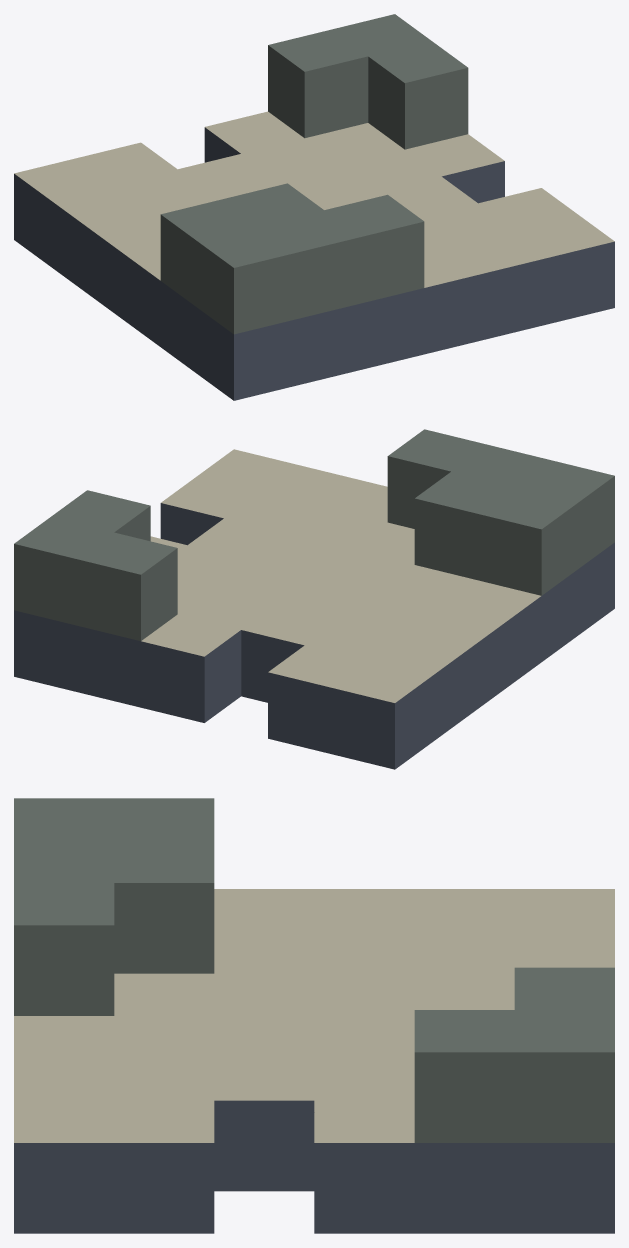
3 renders of one model, top to bottom at view 1: azimuth 30°, elevation 25°; view 2: azimuth 150°, elevation 25°; view 3: azimuth 270°, elevation 25°, orthographic. The views are drawn at different scales.
Parts seen in each view (by area): view 1: 7.2; view 2: 7.2; view 3: 7.2.
Boxes of the visible parts, x1,y1,x2,y2 form: 7.2: [14, 14, 614, 400]; 7.2: [14, 429, 614, 769]; 7.2: [14, 798, 614, 1233].
Size of the model in its own units: 600 by 200 by 600.
